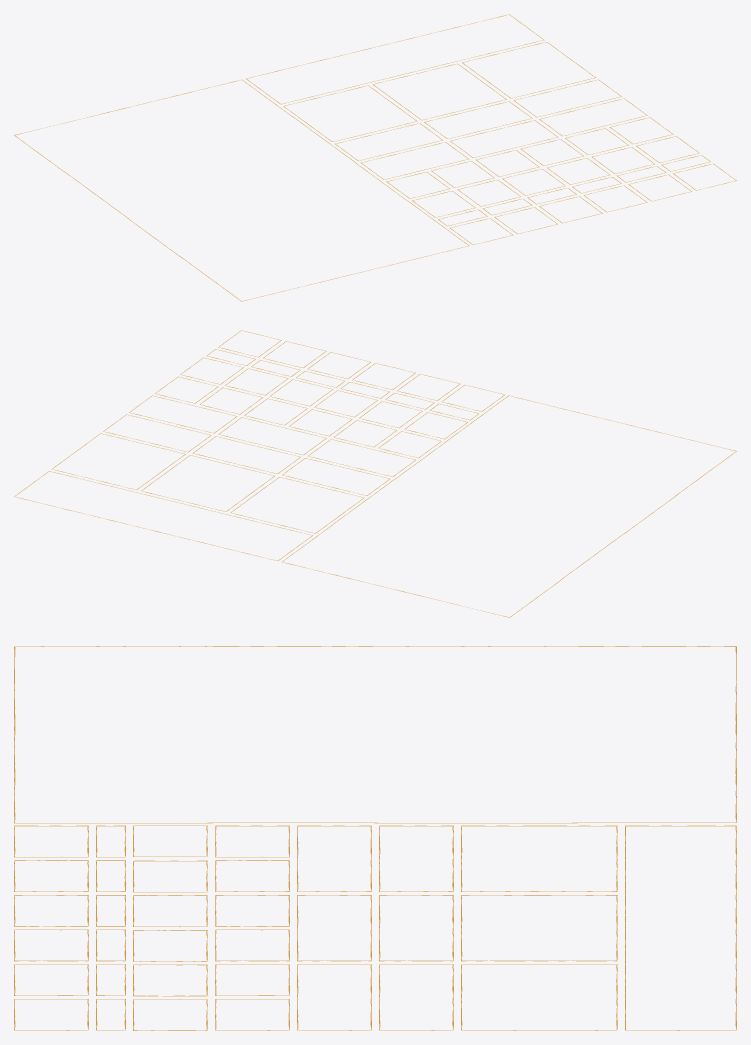
File: ground-lines.fbx
The picture shows the model from 3 angles, top to bottom: view 1: azimuth 30°, elevation 25°; view 2: azimuth 150°, elevation 25°; view 3: azimuth 270°, elevation 25°; orthographic projection. The views are drawn at different scales.
Visible parts, largest first — view 1: ground-lines; view 2: ground-lines; view 3: ground-lines.
Boxes of the visible parts, x1,y1,x2,y2 form: ground-lines: [14, 14, 736, 301]; ground-lines: [14, 330, 736, 617]; ground-lines: [14, 646, 736, 1030].
Bounding box in the file's own units: 611 × 0 × 485.
